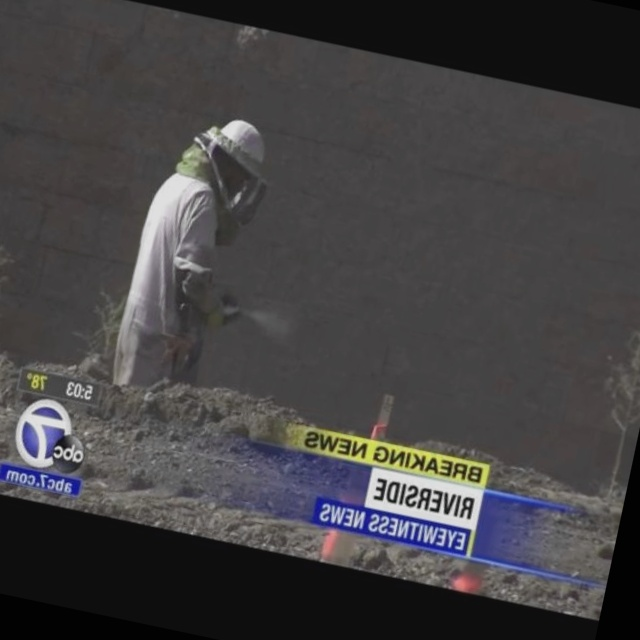Sin_Chaleco: (124, 170, 235, 334)
